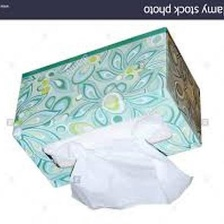book: (7, 22, 208, 193)
tissue: (63, 132, 198, 214)
